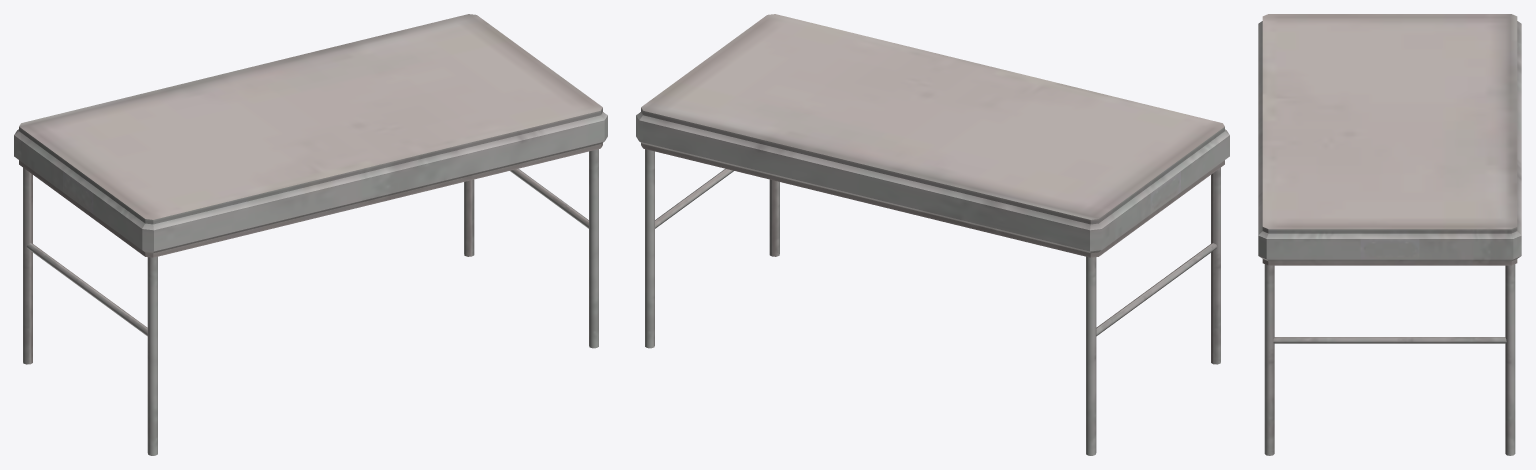
The model's file is ss-promo-table.lod0.glb.
3 renders of one model, left to right at view 1: azimuth 30°, elevation 25°; view 2: azimuth 150°, elevation 25°; view 3: azimuth 270°, elevation 25°, orthographic. The views are drawn at different scales.
Visible parts, largest first — view 1: general_store_furniture_simple_table_general_store_furniture; view 2: general_store_furniture_simple_table_general_store_furniture; view 3: general_store_furniture_simple_table_general_store_furniture.
Part boxes in pixels (<box>): general_store_furniture_simple_table_general_store_furniture: <box>14,14,607,455</box>; general_store_furniture_simple_table_general_store_furniture: <box>636,14,1229,455</box>; general_store_furniture_simple_table_general_store_furniture: <box>1258,14,1521,455</box>.
Size of the model in its own units: 2.19 by 1.07 by 1.11.
Materials: 1 (1 with a texture image).
